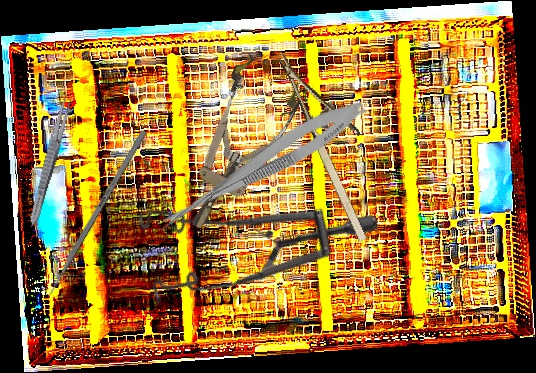Dressing Forceps: (26, 90, 75, 228)
Micro Scissor: (152, 90, 371, 245)
Needle Holder: (276, 35, 398, 245)
Pusher: (38, 129, 148, 310)
Speculum: (107, 102, 382, 360), (162, 50, 310, 244)
